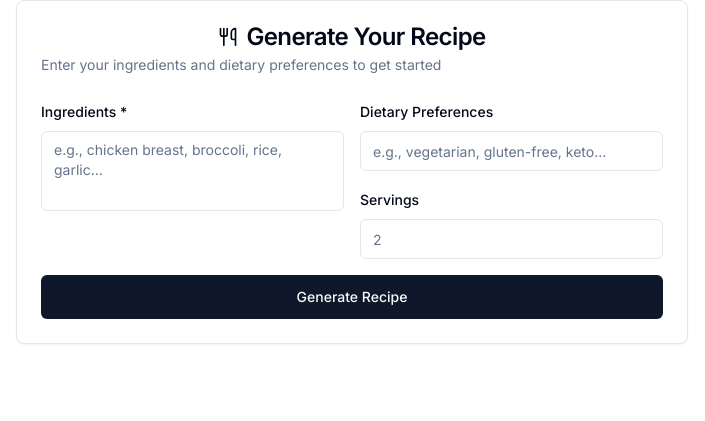
Test: RecipeForm › handles API errors gracefully
In the text box labelled "Ingredients *": (192, 171) [41, 131, 344, 211], type "chicken, rice"
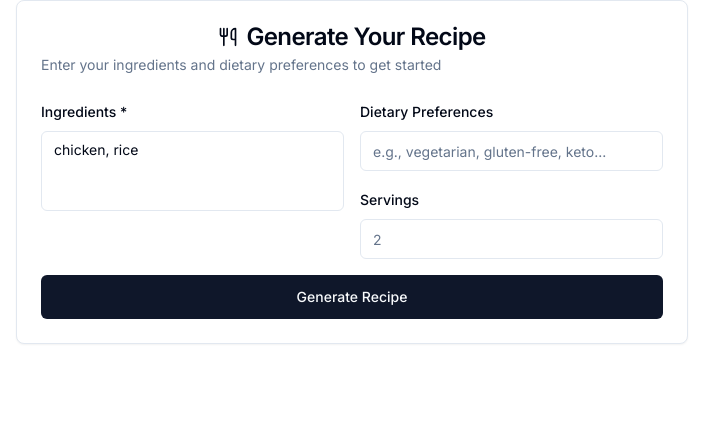
Click the button "Generate Recipe": (352, 297) [41, 275, 663, 319]
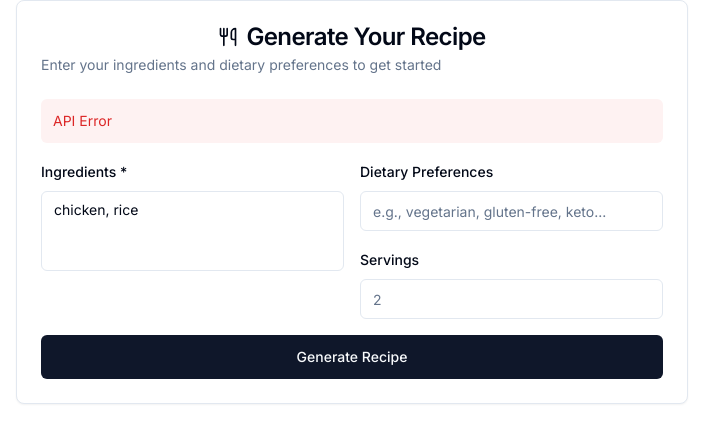
Expected: the text "API Error" is shown, [41, 99, 663, 143]
